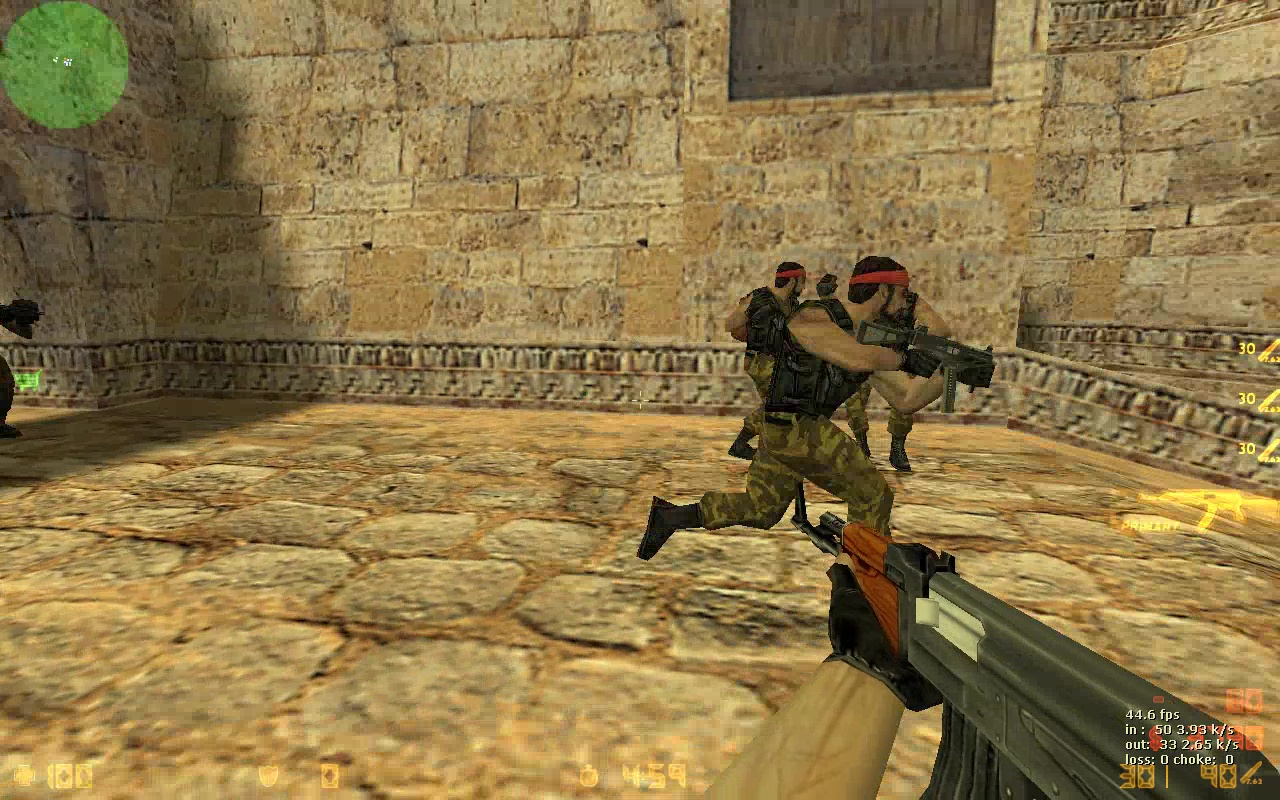terr1: (639, 252, 997, 615), (730, 259, 830, 459)
